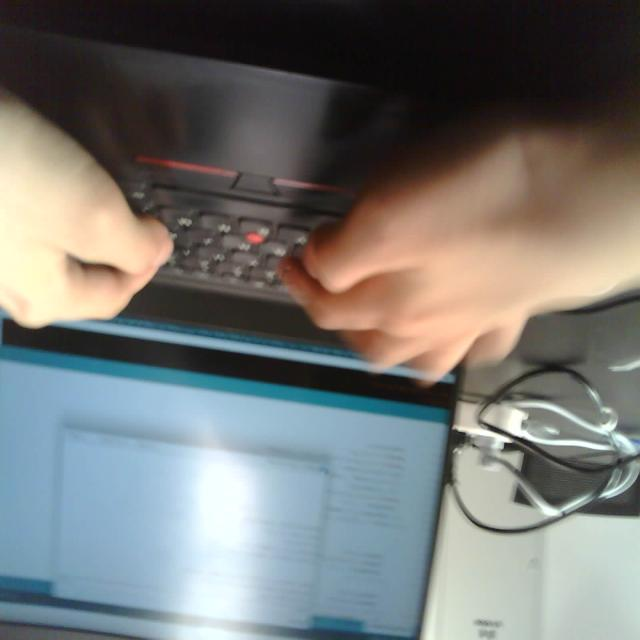keyboard-with-hands: (0, 15, 490, 345)
